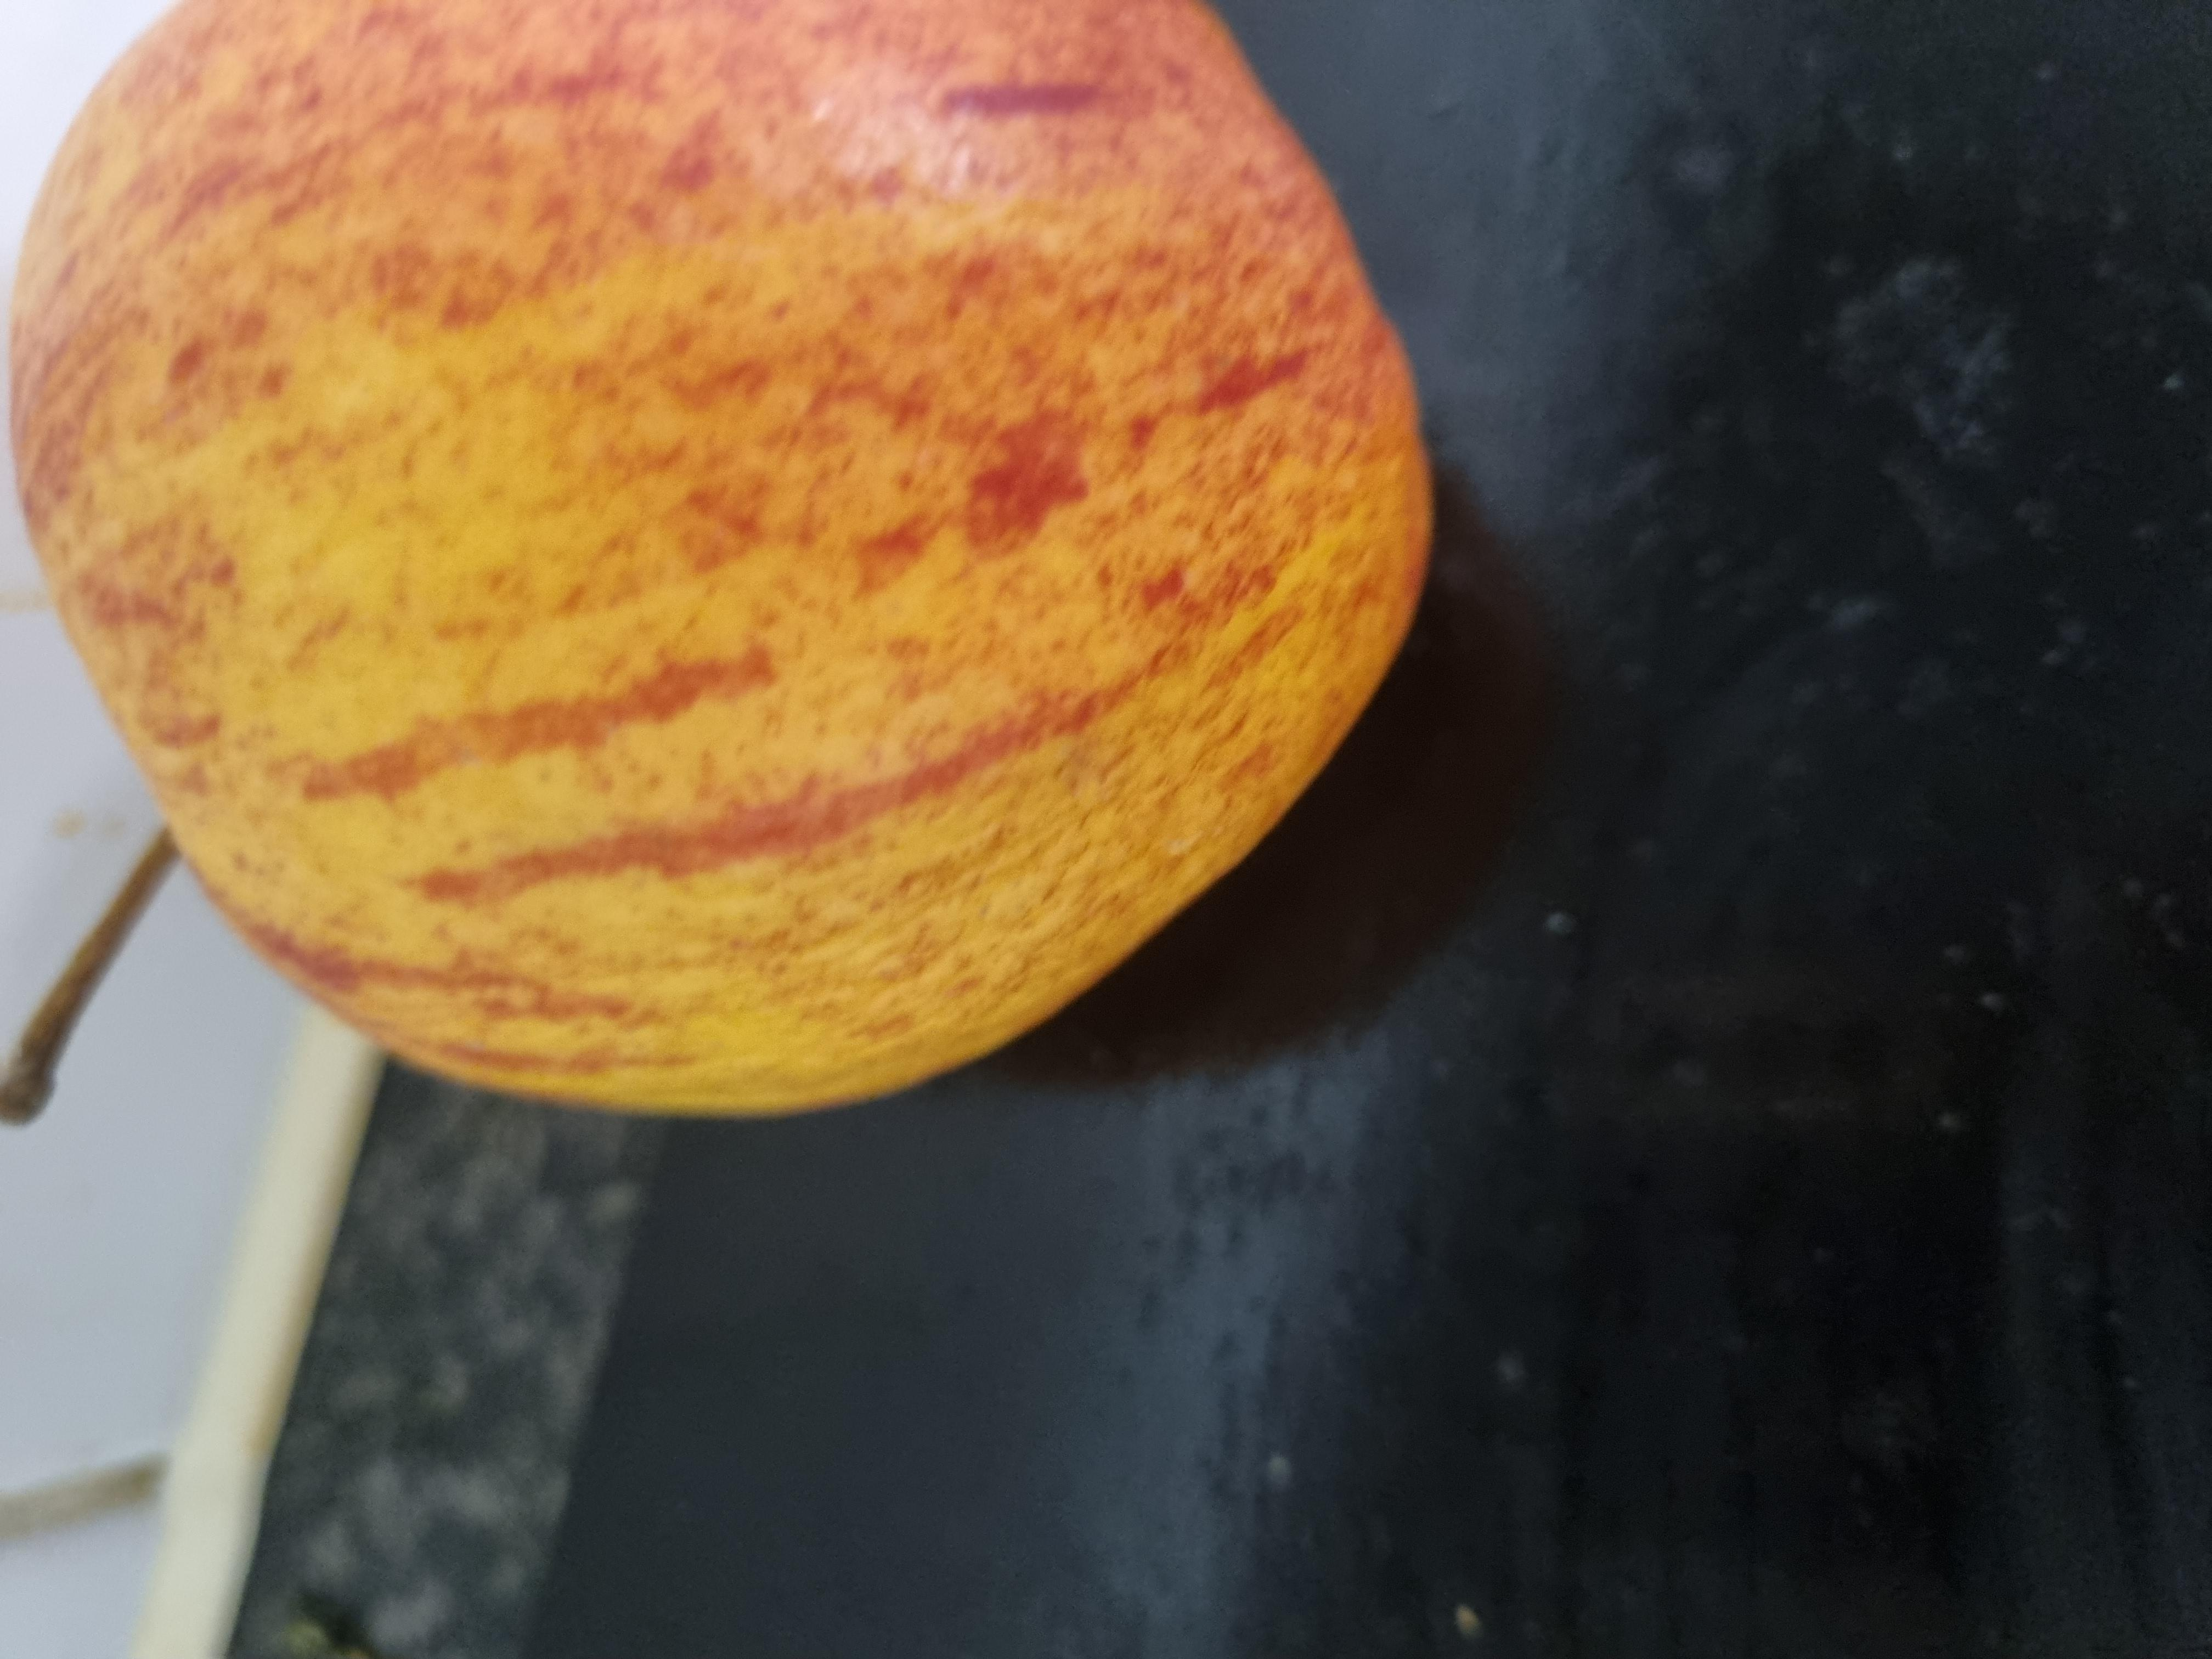Apple: (627, 0, 2212, 1089)
